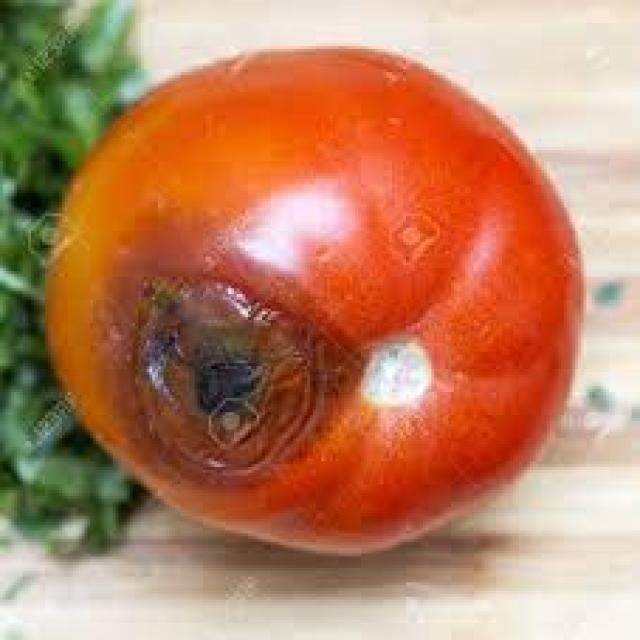overripe tomato: (24, 8, 614, 624)
